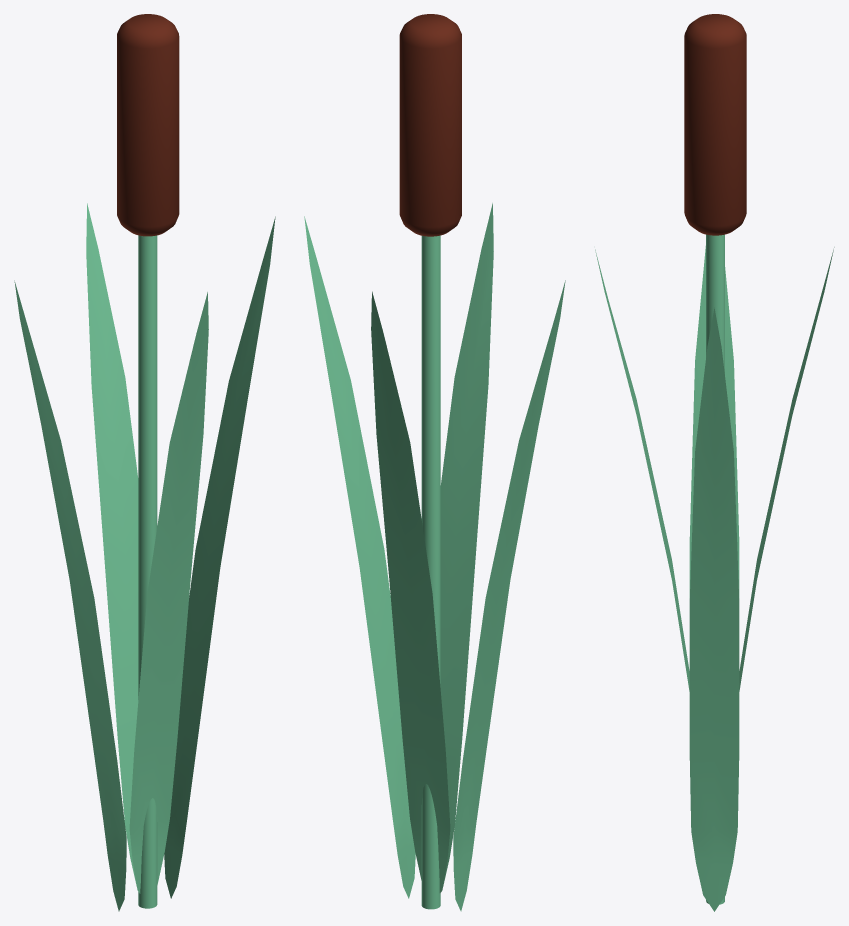
Rendered from grasswithstick.fbx.
3 views of the same model, side by side, from view 1: azimuth 30°, elevation 25°; view 2: azimuth 150°, elevation 25°; view 3: azimuth 270°, elevation 25° (orthographic).
Parts seen in each view (by area): view 1: grass4, grass5, grass3, Cylinder.001, grass, Cylinder; view 2: grass5, grass4, grass3, Cylinder.001, grass, Cylinder; view 3: grass3, Cylinder.001, grass, Cylinder, grass5, grass4.
Boxes of the visible parts, box(x1,y1,x2,y2) form: grass4: box(129, 292, 208, 893); grass5: box(86, 203, 138, 886); grass3: box(164, 216, 275, 898); Cylinder.001: box(117, 14, 179, 236); grass: box(14, 280, 126, 911); Cylinder: box(138, 235, 157, 908); grass5: box(371, 291, 450, 893); grass4: box(440, 203, 493, 886); grass3: box(304, 216, 415, 898); Cylinder.001: box(399, 14, 461, 236); grass: box(453, 280, 565, 911); Cylinder: box(421, 235, 440, 909); grass3: box(689, 307, 739, 911); Cylinder.001: box(684, 14, 746, 235); grass: box(689, 246, 739, 597); Cylinder: box(706, 234, 724, 904); grass5: box(739, 247, 834, 691); grass4: box(595, 249, 689, 691).
Size of the model in its own units: 23.1 by 74.52 by 18.5.
